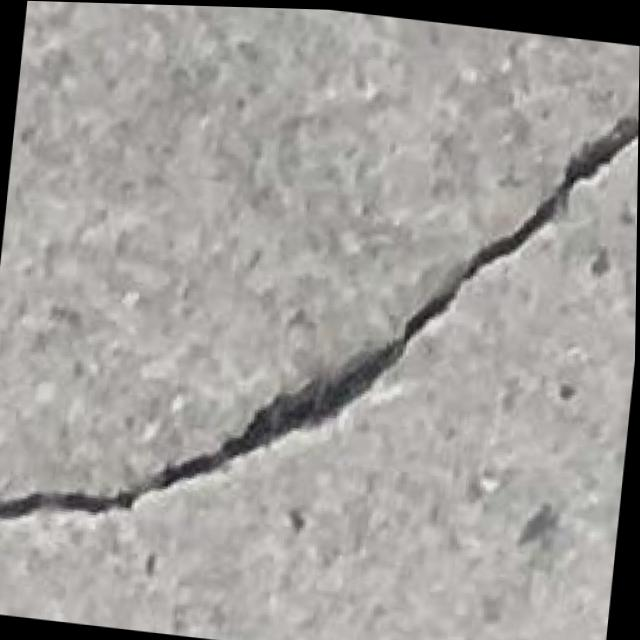Crack: (0, 24, 640, 592)
